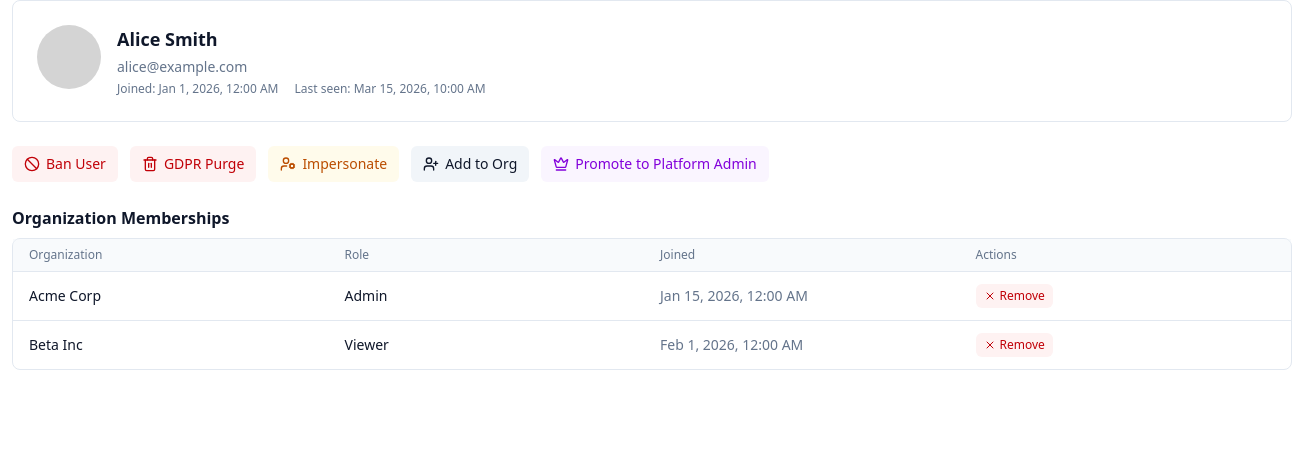
Test: UserDetail › shows active impersonation indicator with clear button
The width and height of the screenshot is (1292, 459).
Click the button with test id "impersonate-btn" at coordinates (334, 164), box [268,146,399,182]
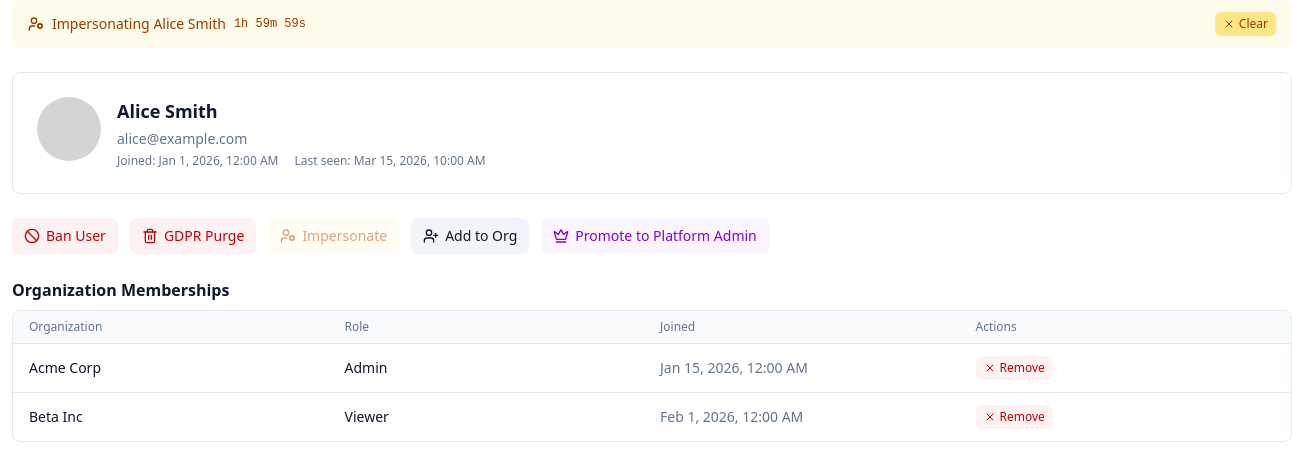
Expected: the element with test id "impersonation-active" is shown, [12,0,1291,48]
Expected: the button with test id "impersonation-clear-btn" is shown, [1215,12,1276,36]
